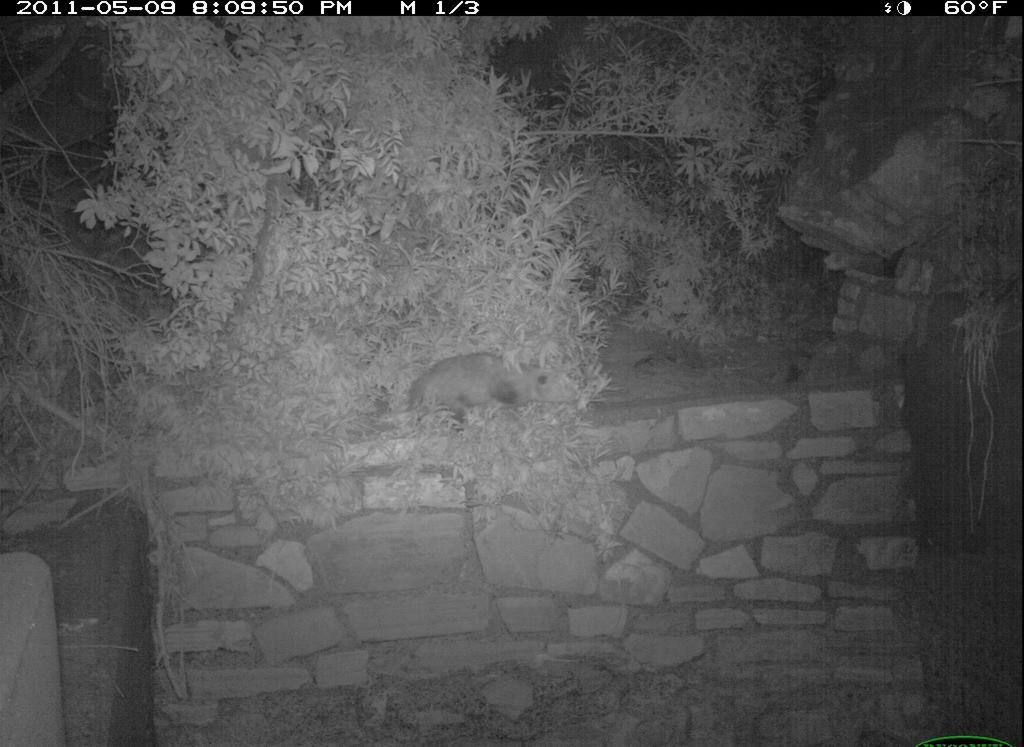opossum: (383, 341, 591, 443)
